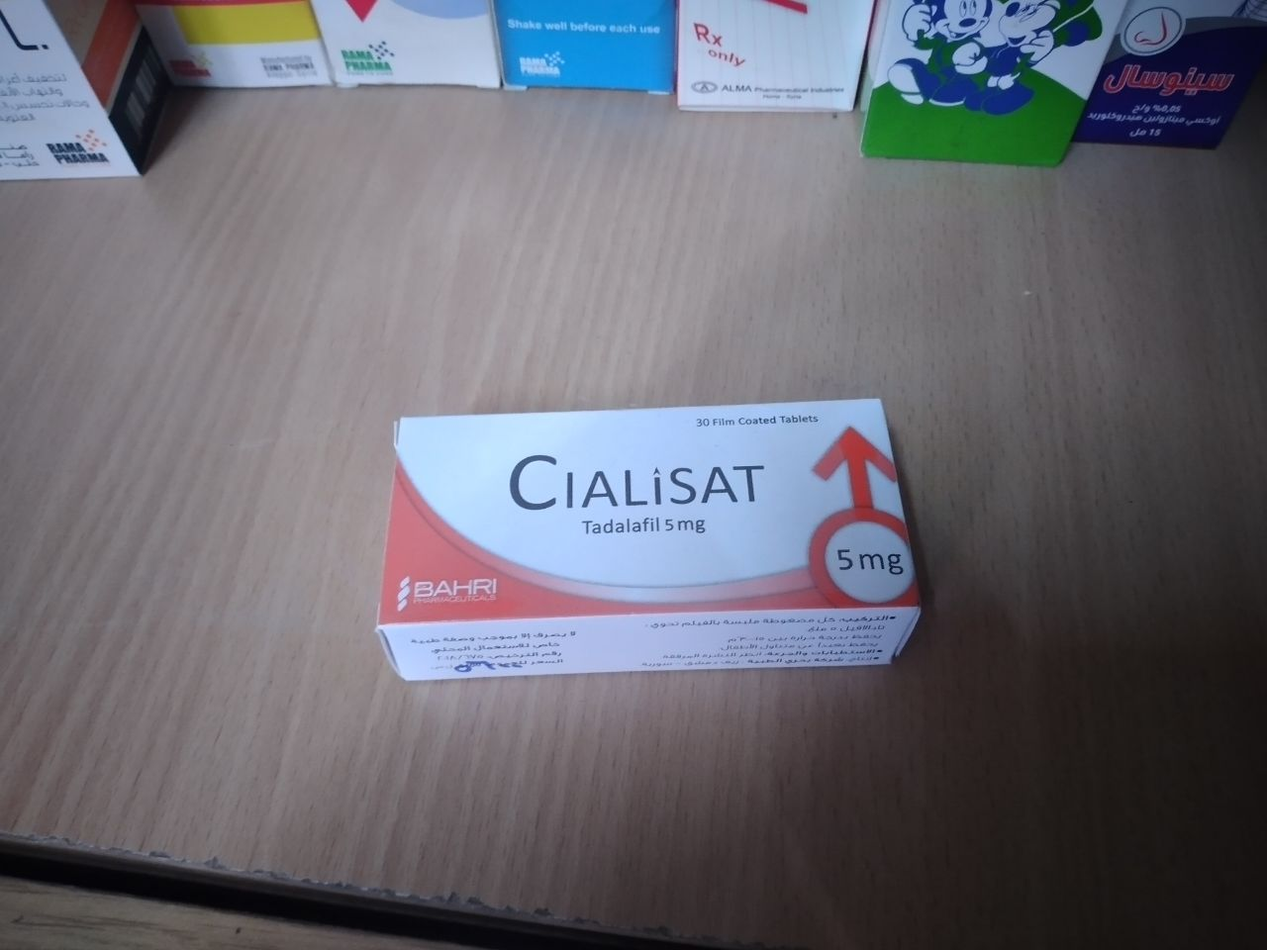Medicine: (369, 393, 948, 700)
